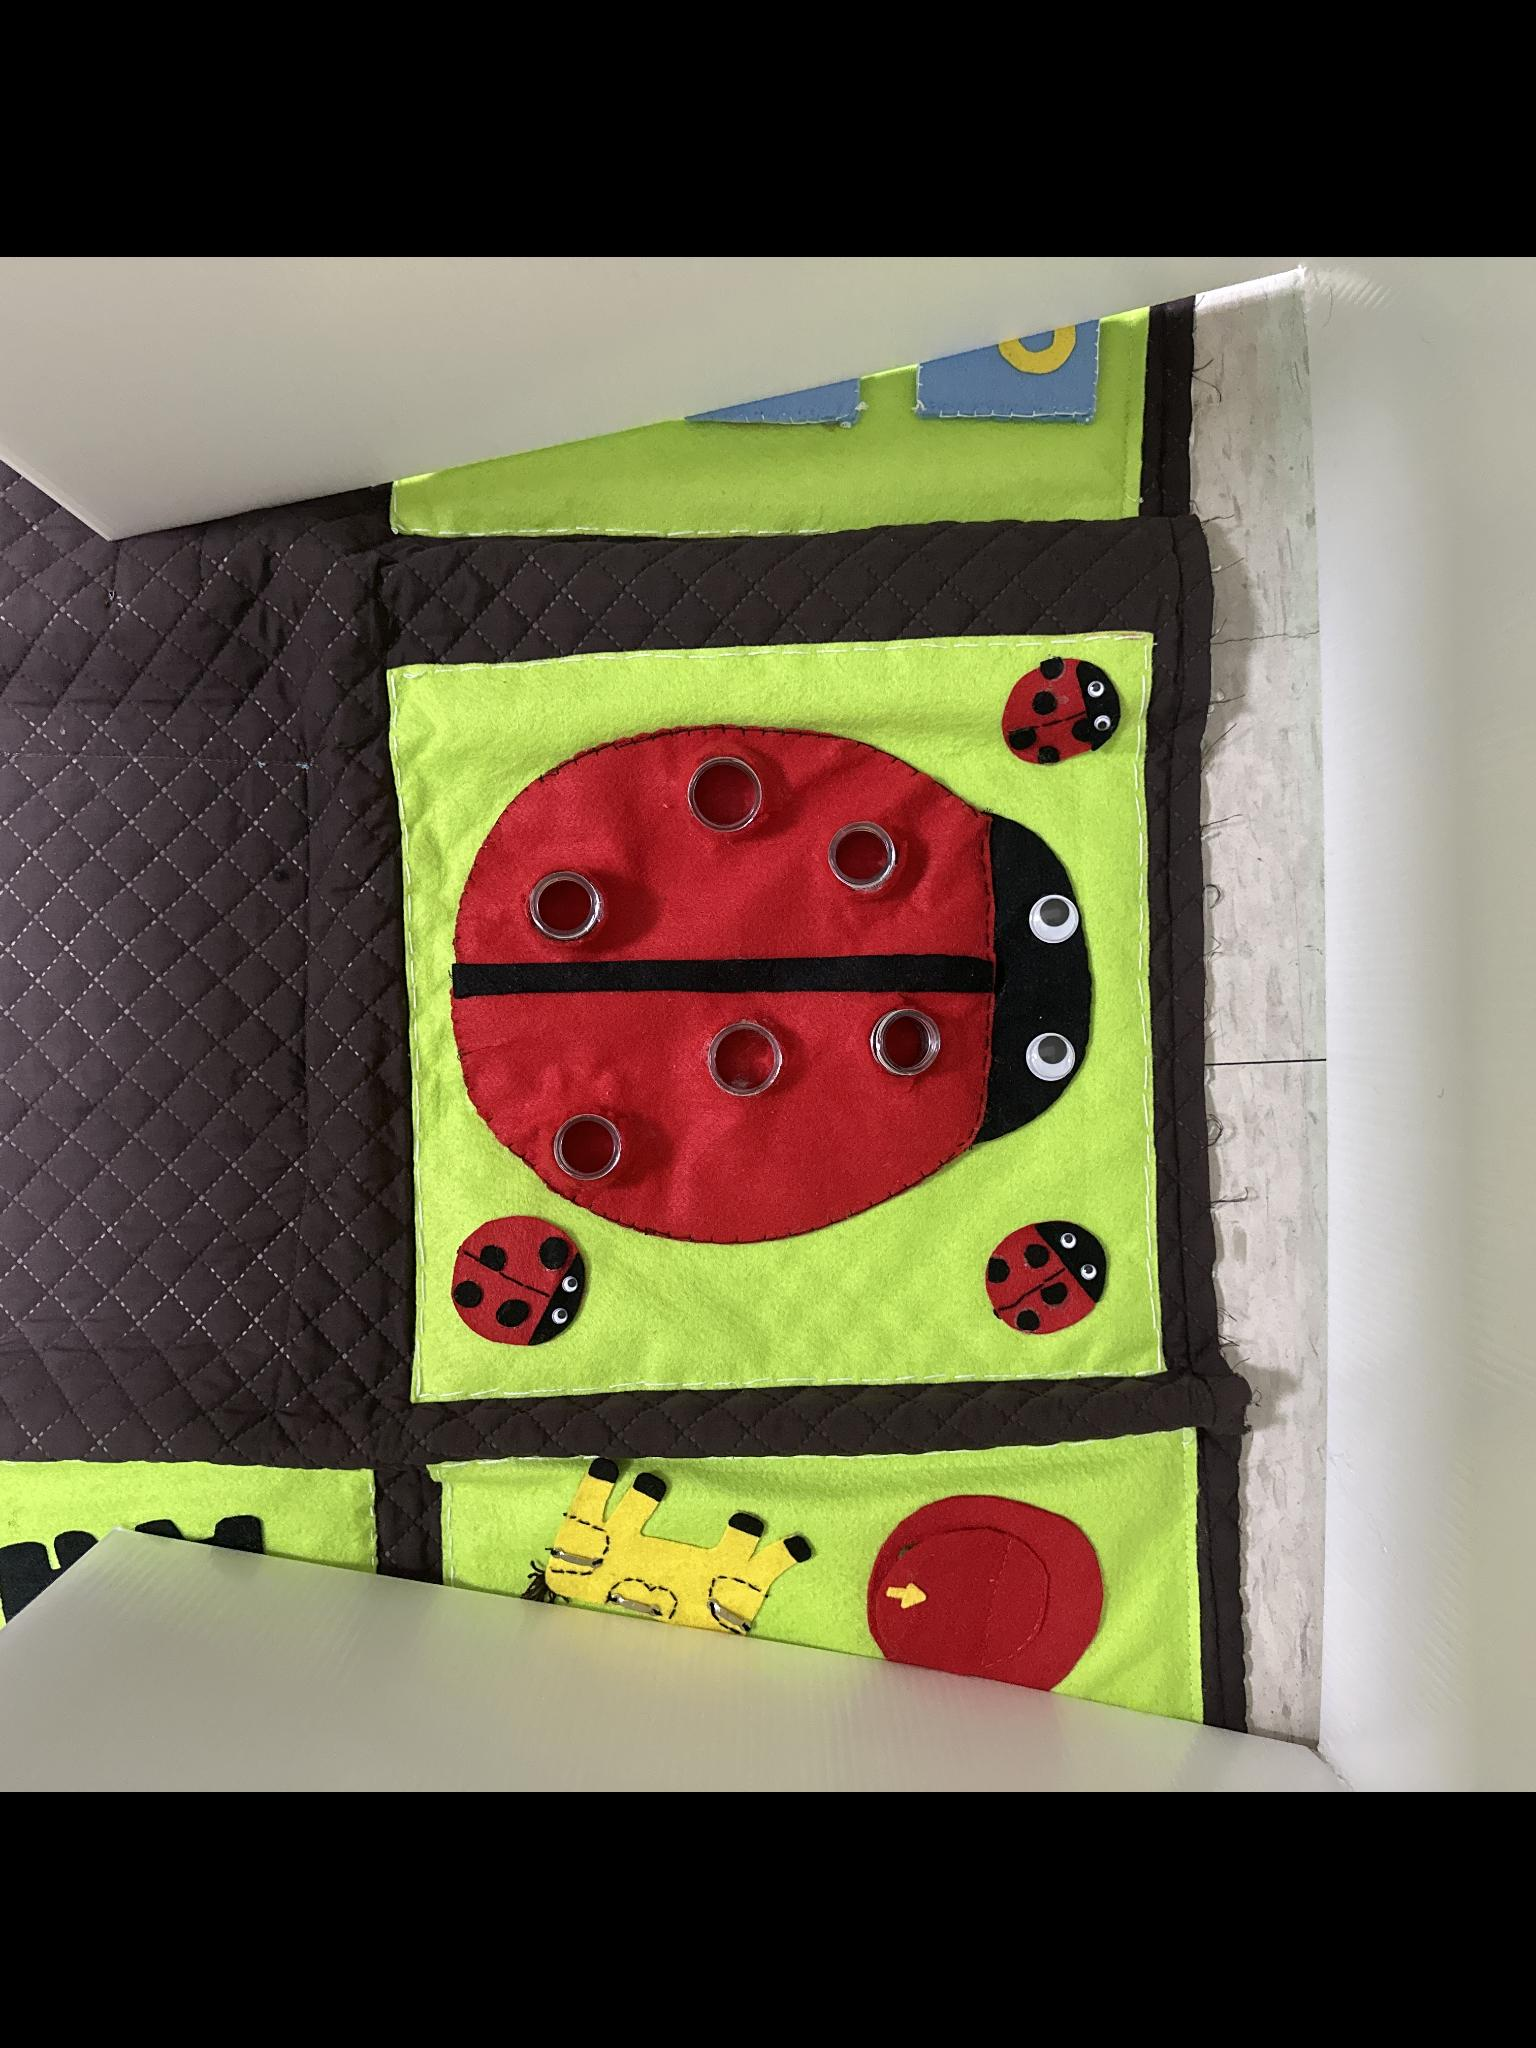hole: (687, 753, 766, 829), (707, 1021, 791, 1090), (526, 868, 603, 939), (871, 1006, 944, 1077), (550, 1111, 626, 1177), (824, 821, 899, 885)
ladybug_case: (445, 719, 1102, 1238)
